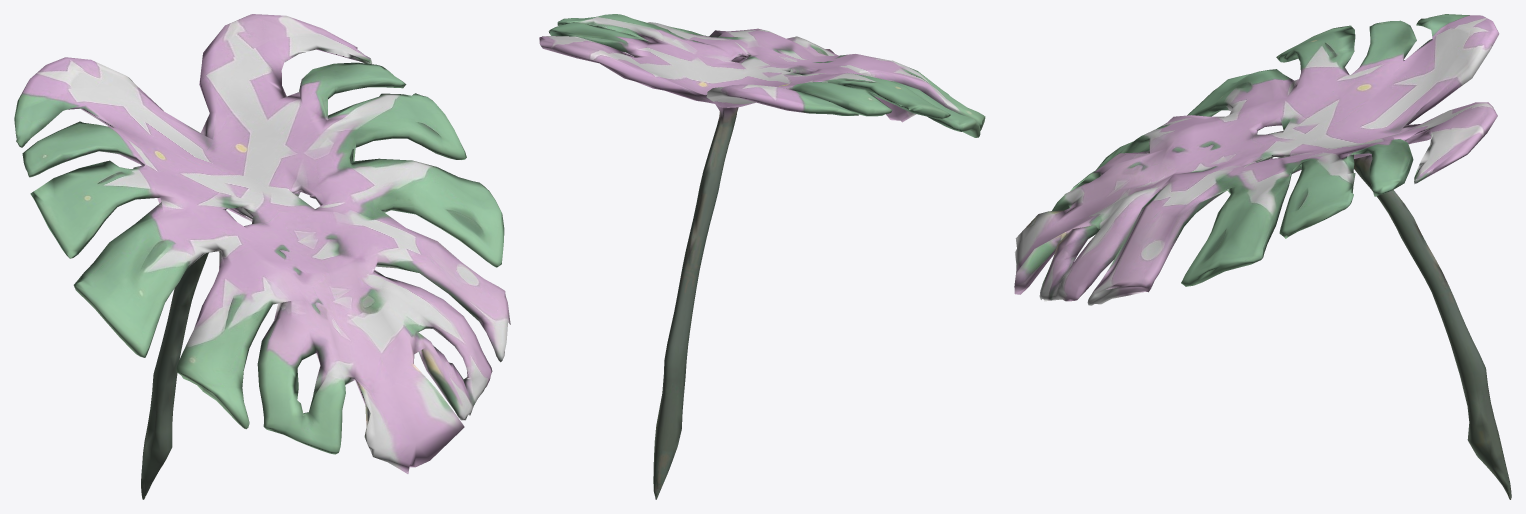
The model's file is mon_star_pinkmint_v2.glb.
3 renders of one model, left to right at view 1: azimuth 30°, elevation 25°; view 2: azimuth 150°, elevation 25°; view 3: azimuth 270°, elevation 25°, orthographic. The views are drawn at different scales.
Size of the model in its own units: 1.76 by 1.92 by 2.
Materials: 1 (1 with a texture image).
